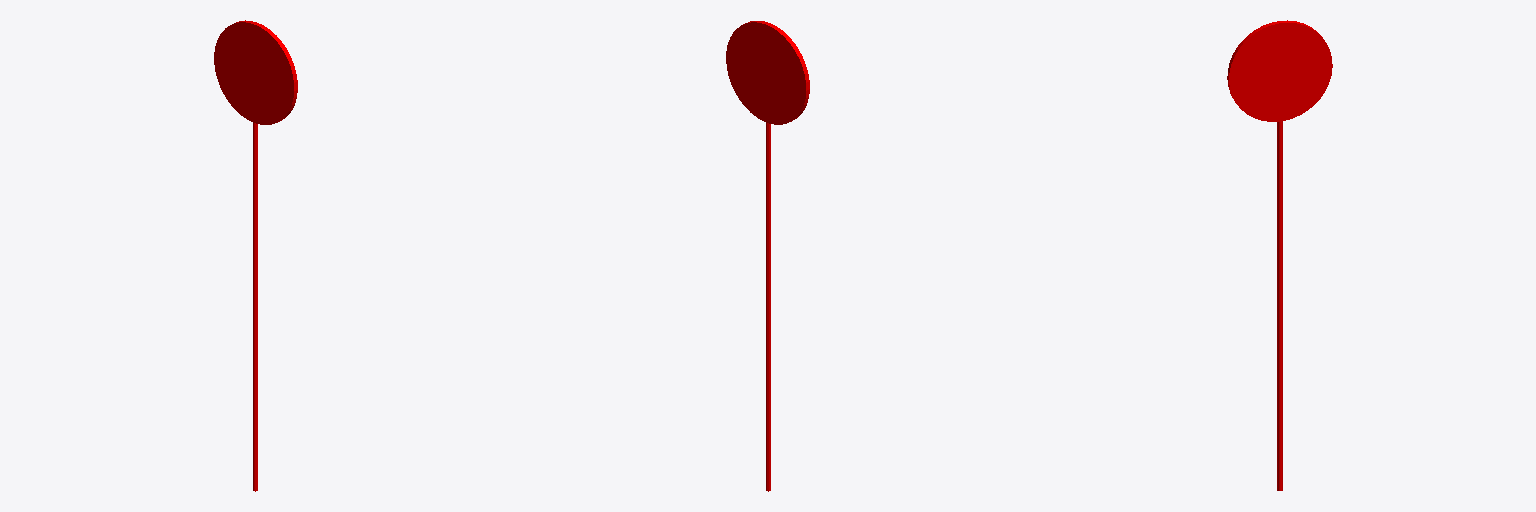
URDF robot description (RightSignPkg):
<?xml version="1.0" encoding="utf-8"?>
<!-- This URDF was automatically created by SolidWorks to URDF Exporter! Originally created by [author] ([email redacted]) 
     Commit Version: 1.5.1-0-g916b5db  Build Version: 1.5.7152.31018
     For more information, please see http://wiki.ros.org/sw_urdf_exporter -->
<robot
  name="RightSignPkg">
  <link
    name="base_link">
    <inertial>
      <origin
        xyz="0.24531981555887 -1.407832290277 1.45180834679408"
        rpy="0 0 0" />
      <mass
        value="2.9845130209103" />
      <inertia
        ixx="0.136304159186205"
        ixy="0.007274494811515"
        ixz="-0.000158182486862365"
        iyy="0.115914887636766"
        iyz="-5.06500977591304E-05"
        izz="0.0252411803543244" />
    </inertial>
    <visual>
      <origin
        xyz="0 0 0"
        rpy="0 0 0" />
      <geometry>
        <mesh
          filename="package://RightSignPkg/meshes/base_link.STL" />
      </geometry>
      <material
        name="">
        <color
          rgba="1 0 0 1" />
      </material>
    </visual>
    <collision>
      <origin
        xyz="0 0 0"
        rpy="0 0 0" />
      <geometry>
        <mesh
          filename="package://RightSignPkg/meshes/base_link.STL" />
      </geometry>
    </collision>
  </link>
</robot>

--- Facts derived from the render (not from the file) ---
Views: 3 orthographic renders of the robot side by side, from view 1: azimuth 30°, elevation 25°; view 2: azimuth 210°, elevation 25°; view 3: azimuth 270°, elevation 25°.
Robot: RightSignPkg — 1 links, 0 joints (none); root link base_link; default pose: all joints at 0.
Visible links, largest first — view 1: base_link; view 2: base_link; view 3: base_link.
Link boxes in pixels (box(x1,y1,x2,y2)): base_link: box(214, 20, 297, 491); base_link: box(726, 21, 809, 491); base_link: box(1227, 20, 1332, 490).
Size in the robot's own frame: 0.1409 by 0.3867 by 1.9 metres.
Meshes: 1 distinct files referenced, 1 mesh visuals loaded (1 binary STL).